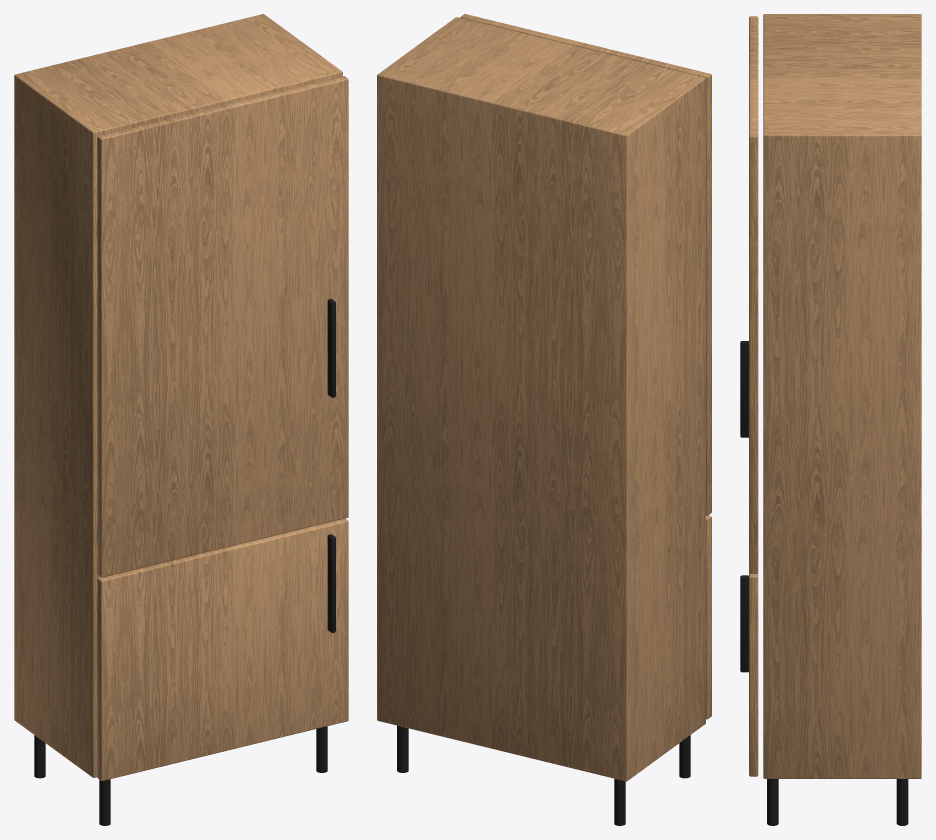
Rendered from tall-cabinet-oak.glb.
3 views of the same model, side by side, from view 1: azimuth 30°, elevation 25°; view 2: azimuth 150°, elevation 25°; view 3: azimuth 270°, elevation 25° (orthographic).
Parts seen in each view (by area): view 1: door.001, body, door, handle.001, handle; view 2: body, door.001, door; view 3: body, door.001, door, handle, handle.001, leg.003, leg.002.
Part boxes in pixels (left/top/right/bottom): door.001: left=97, top=76, right=348, bottom=577; body: left=14, top=14, right=342, bottom=777; door: left=97, top=518, right=348, bottom=780; handle.001: left=327, top=299, right=335, bottom=397; handle: left=327, top=534, right=335, bottom=632; body: left=377, top=17, right=705, bottom=781; door.001: left=460, top=14, right=711, bottom=515; door: left=706, top=515, right=711, bottom=719; body: left=763, top=14, right=921, bottom=778; door.001: left=749, top=16, right=758, bottom=573; door: left=749, top=573, right=758, bottom=776; handle: left=740, top=575, right=748, bottom=672; handle.001: left=740, top=341, right=748, bottom=437; leg.003: left=896, top=779, right=908, bottom=825; leg.002: left=767, top=779, right=778, bottom=825.
Size of the model in its own units: 0.6 by 1.6 by 0.378.
Materials: 2 (1 with a texture image).
